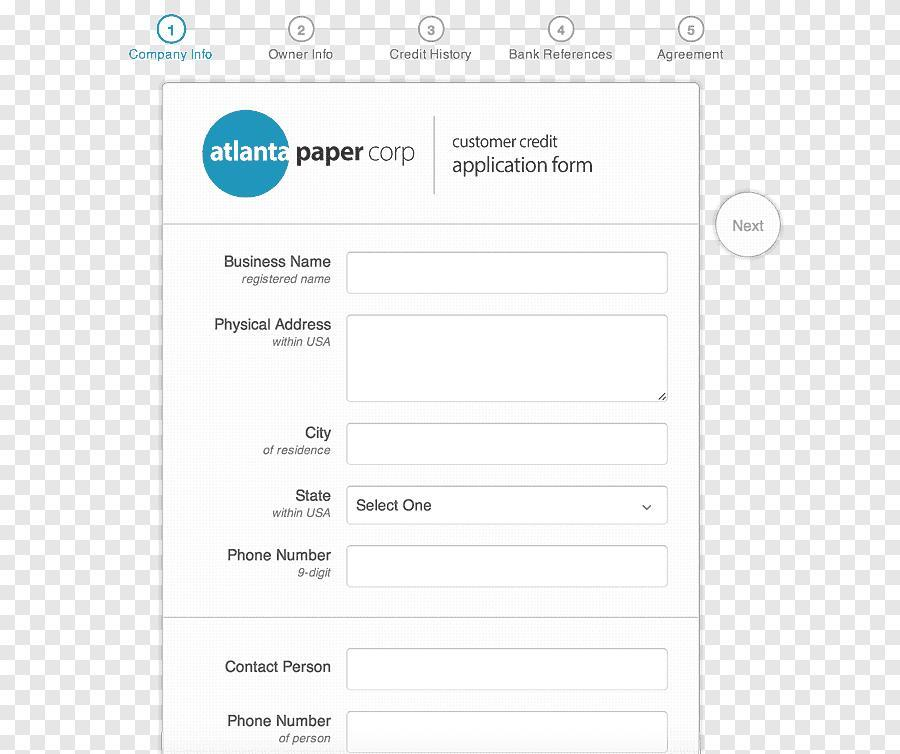dropdown: (348, 487, 669, 526)
input: (348, 545, 668, 589), (350, 423, 669, 466), (349, 712, 668, 754), (348, 254, 670, 295), (348, 649, 669, 690)
label: (202, 313, 336, 350), (224, 545, 336, 585), (219, 253, 337, 289), (224, 713, 336, 748), (226, 656, 337, 684), (258, 425, 337, 459), (270, 486, 336, 521), (508, 45, 614, 66), (127, 45, 218, 66), (389, 46, 475, 66), (265, 48, 344, 68), (656, 46, 724, 65)
